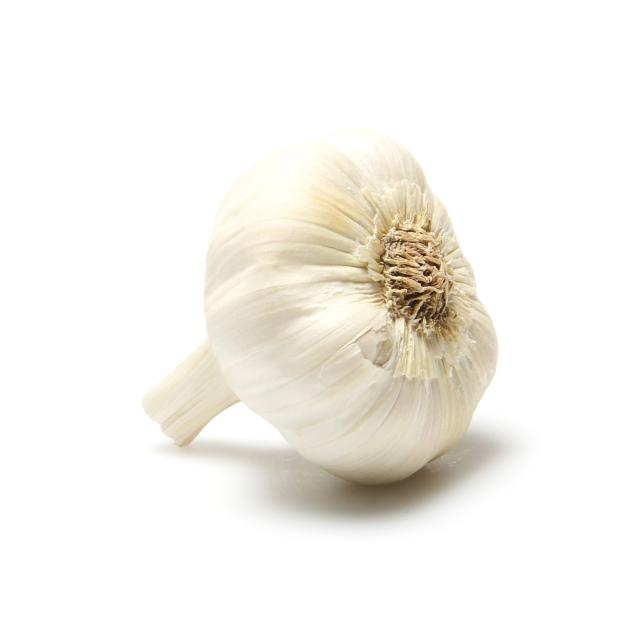garlic: (196, 115, 497, 492)
